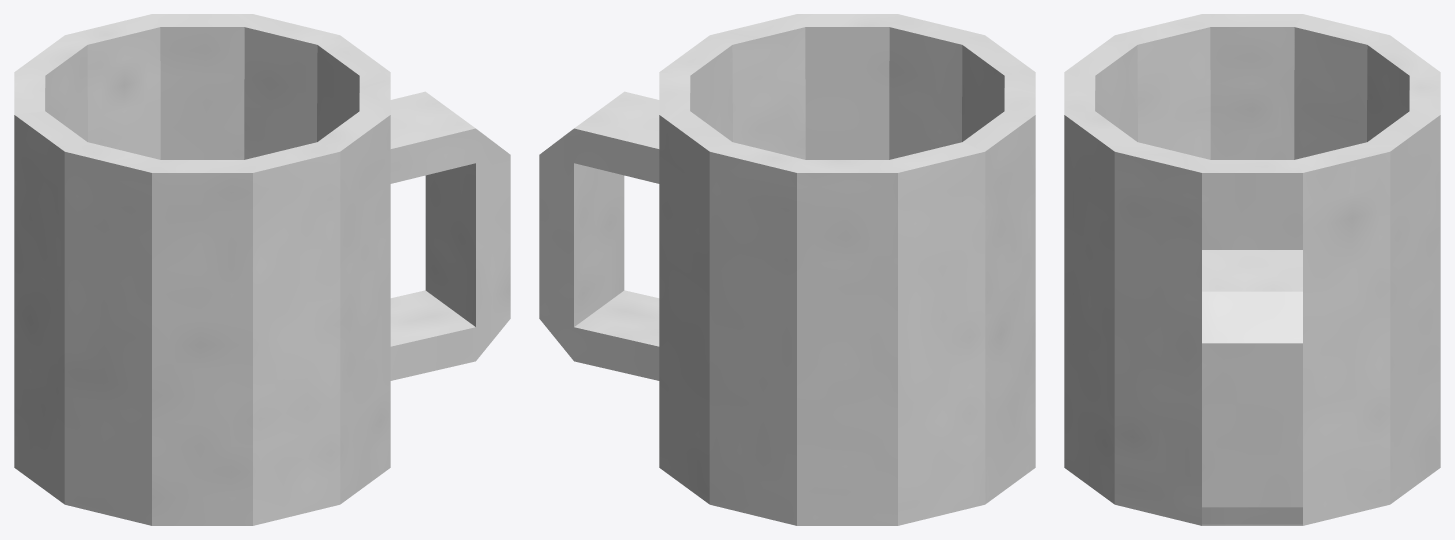
Rendered from mug1.fbx.
The picture shows the model from 3 angles, left to right: view 1: azimuth 30°, elevation 25°; view 2: azimuth 150°, elevation 25°; view 3: azimuth 270°, elevation 25°; orthographic projection.
Parts seen in each view (by area): view 1: Cylinder; view 2: Cylinder; view 3: Cylinder.
Boxes of the visible parts, bbox=[...] form: Cylinder: bbox=[14, 14, 510, 525]; Cylinder: bbox=[539, 14, 1035, 525]; Cylinder: bbox=[1064, 14, 1440, 525].
Size of the model in its own units: 0.1488 by 0.1126 by 0.1087.
